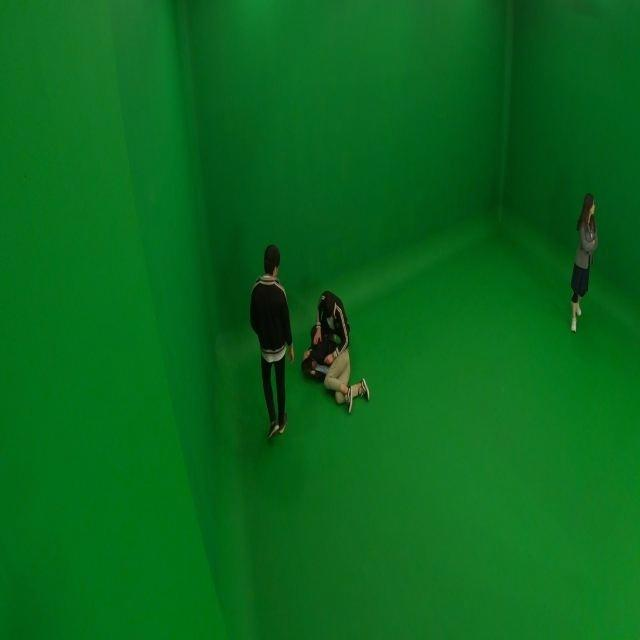fight: (299, 286, 372, 414)
non-fight: (247, 244, 296, 441), (566, 190, 599, 330)
